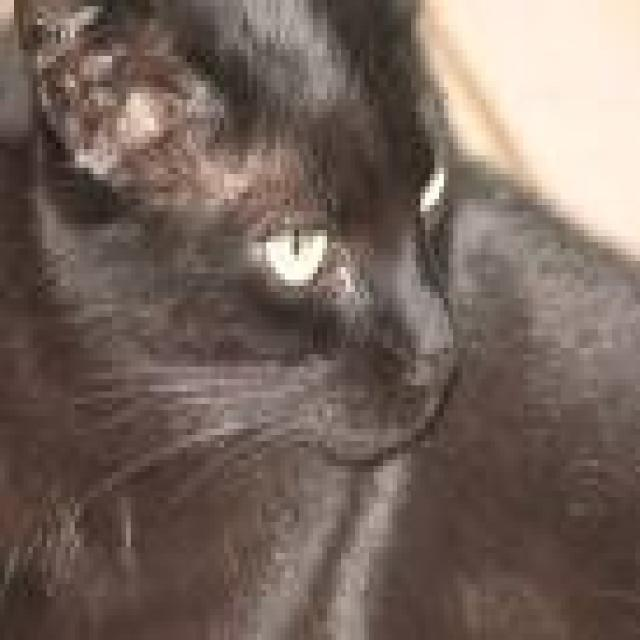Bombay: (11, 0, 469, 471)
